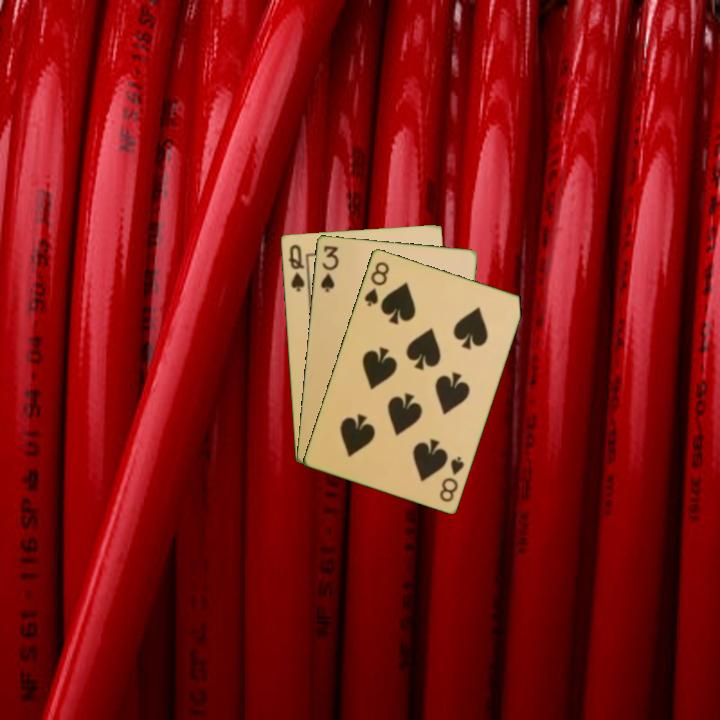3s: (317, 242, 341, 295)
8s: (360, 258, 392, 309), (436, 453, 467, 505)
Qs: (285, 241, 307, 294)
